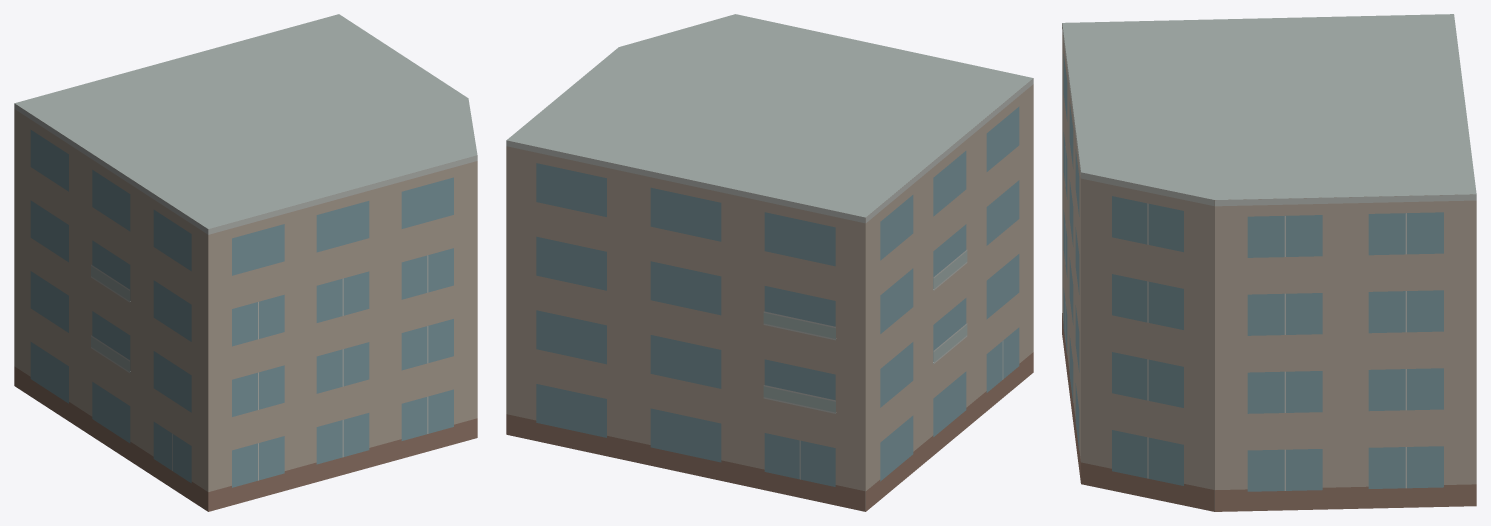
Rendered from residential-310078f6-b670-41cd-95fd-75bcc69e9b9d.glb.
The picture shows the model from 3 angles, left to right: view 1: azimuth 30°, elevation 25°; view 2: azimuth 150°, elevation 25°; view 3: azimuth 270°, elevation 25°; orthographic projection. The views are drawn at different scales.
Parts seen in each view (by area): view 1: residential-310078f6-b670-41cd-95fd-75bcc69e9b9d.tmp; view 2: residential-310078f6-b670-41cd-95fd-75bcc69e9b9d.tmp; view 3: residential-310078f6-b670-41cd-95fd-75bcc69e9b9d.tmp.
Boxes of the visible parts, left/top/right/bottom form: residential-310078f6-b670-41cd-95fd-75bcc69e9b9d.tmp: left=14, top=14, right=477, bottom=511; residential-310078f6-b670-41cd-95fd-75bcc69e9b9d.tmp: left=506, top=14, right=1033, bottom=511; residential-310078f6-b670-41cd-95fd-75bcc69e9b9d.tmp: left=1062, top=14, right=1476, bottom=511.
Size of the model in its own units: 15.62 by 12.2 by 14.71.
